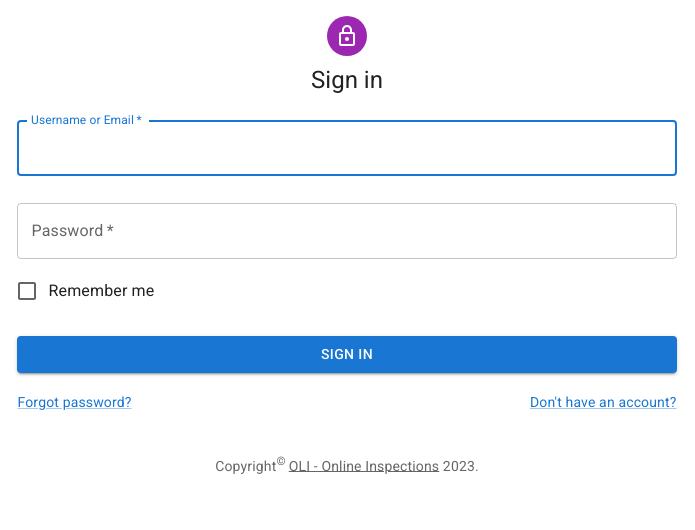
Scenario: LoginForm Component › shows an error message for an empty username field
Click the button with test id "sign-in-button": (347, 354) [18,336,676,372]
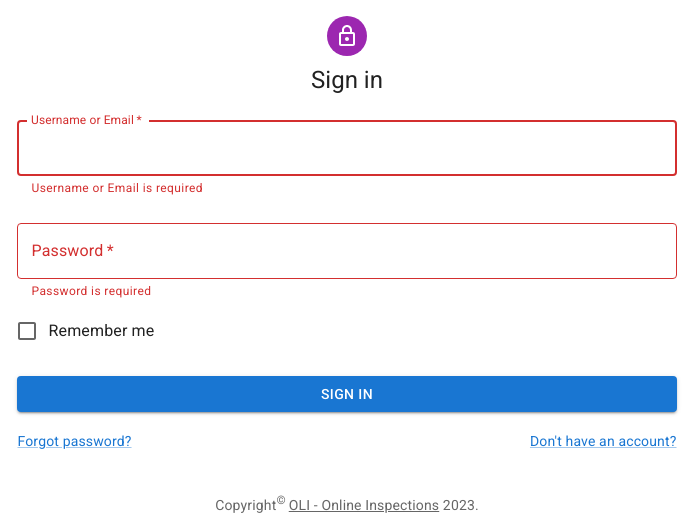
expect the text "Username or Email is required" is shown: met, box [32,181,203,195]
